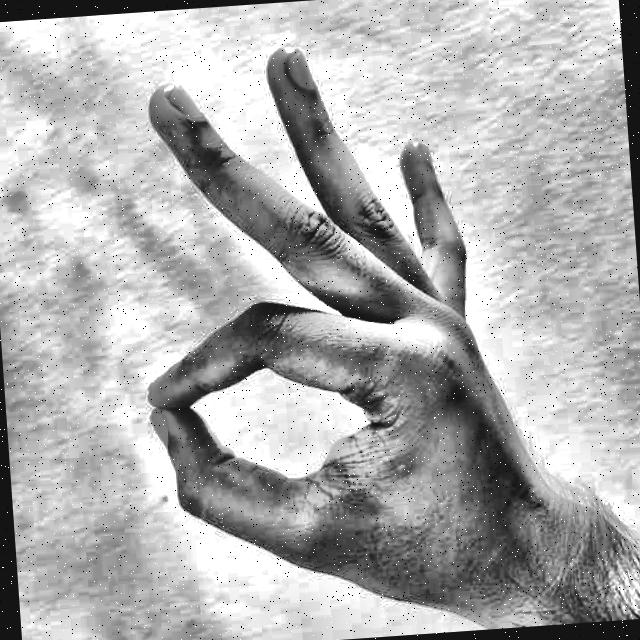Ca: (92, 0, 602, 640)
